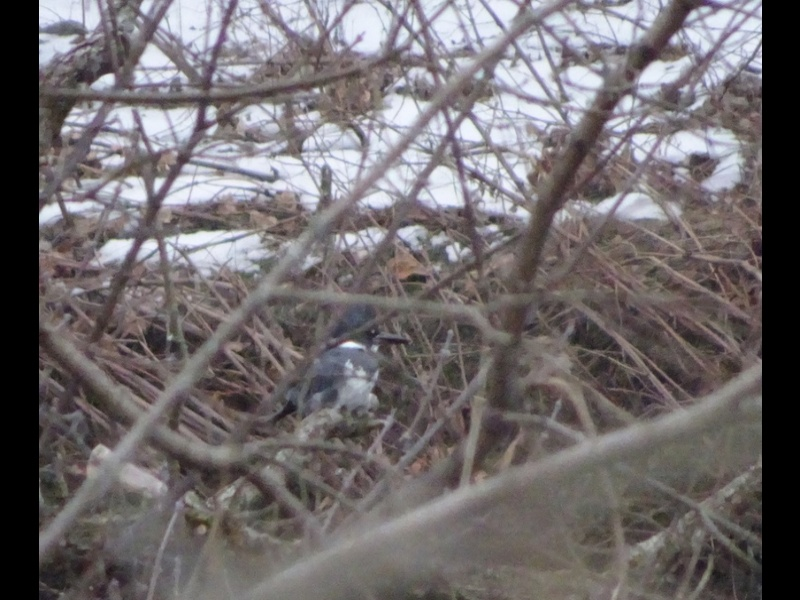kingfisher: (265, 300, 404, 436)
